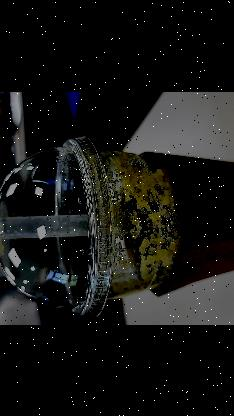Others: (0, 134, 234, 314), (0, 134, 113, 318), (0, 206, 103, 245)
